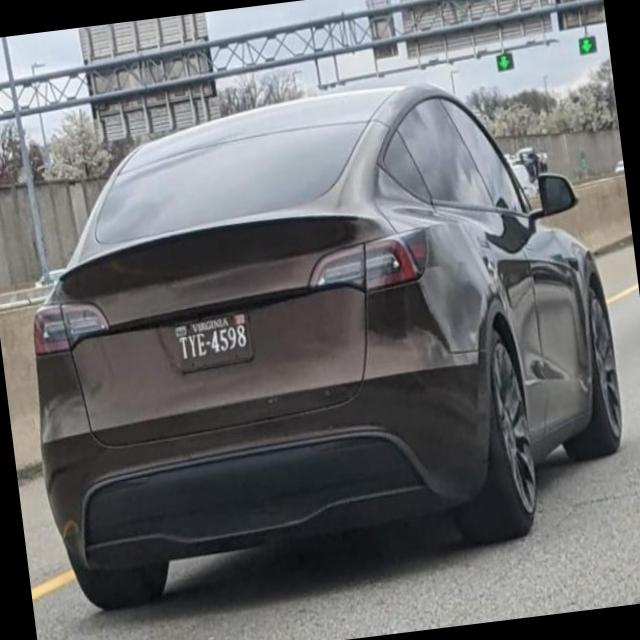LicensePlate: (171, 304, 253, 375)
